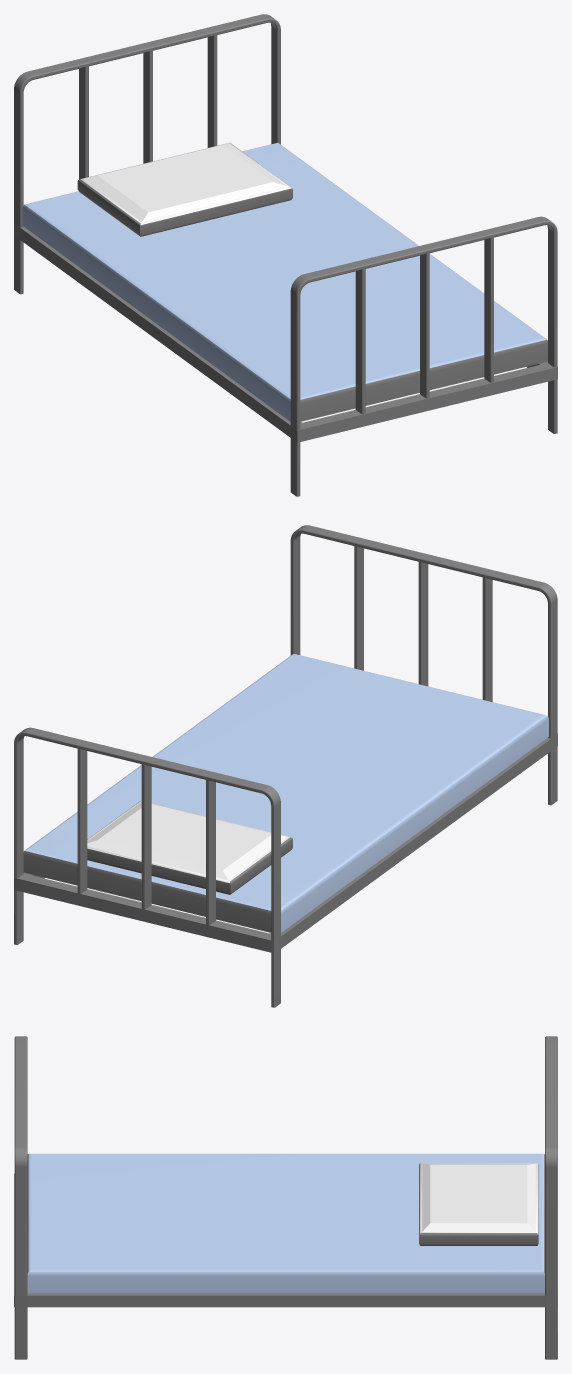
File: Bedv2.fbx
3 views of the same model, one above another, from view 1: azimuth 30°, elevation 25°; view 2: azimuth 150°, elevation 25°; view 3: azimuth 270°, elevation 25° (orthographic). The views are drawn at different scales.
Visible parts, largest first — view 1: Bed; view 2: Bed; view 3: Bed.
Part boxes in pixels (left/top/right/bottom): Bed: left=14, top=14, right=557, bottom=496; Bed: left=14, top=525, right=557, bottom=1007; Bed: left=14, top=1036, right=557, bottom=1359.
Bounding box in the file's own units: 7.42 × 5.84 × 13.97.
